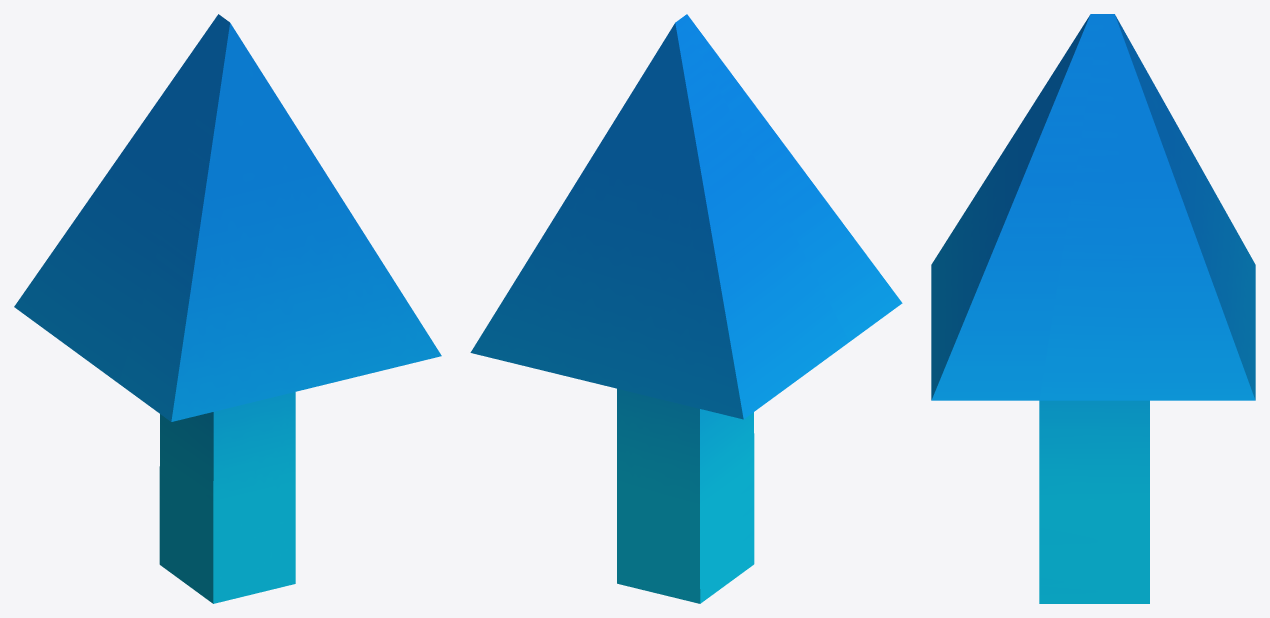
Rendered from jiantou 2.fbx.
3 renders of one model, left to right at view 1: azimuth 30°, elevation 25°; view 2: azimuth 150°, elevation 25°; view 3: azimuth 270°, elevation 25°, orthographic. The views are drawn at different scales.
Visible parts, largest first — view 1: Door-06; view 2: Door-06; view 3: Door-06.
Part boxes in pixels (x1,y1,x2,y2): Door-06: (14,14,441,603); Door-06: (470,14,902,603); Door-06: (931,14,1255,603).
Size of the model in its own units: 21.48 by 41.94 by 21.63.
Materials: 1 (1 with a texture image).
